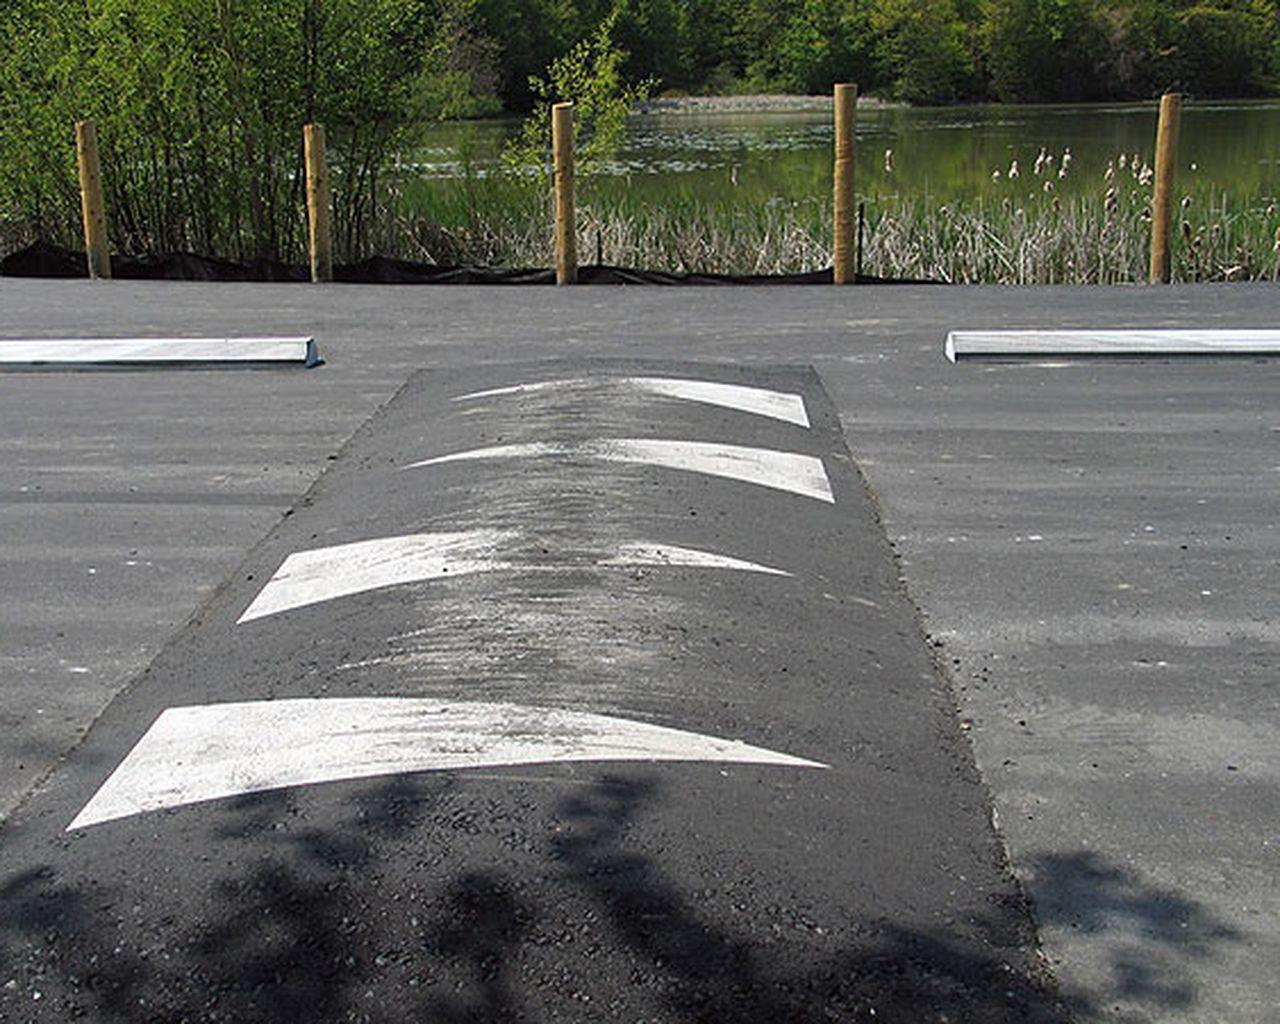speedbreaker: (8, 375, 1066, 1016)
